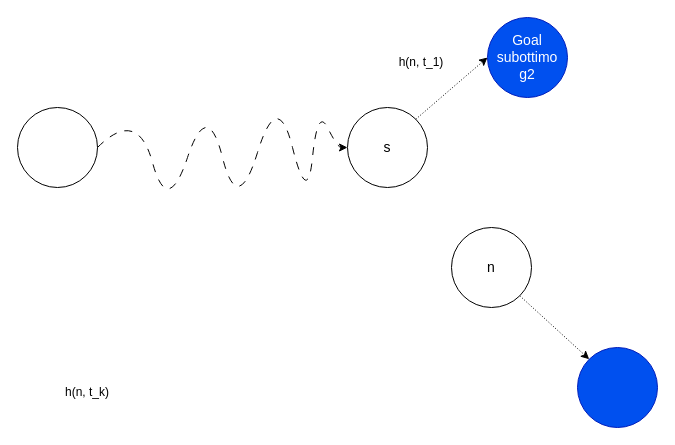
Some shapes in this 675 by 445 pixel diagram are drawn without their labels. The centre of each missing label's shape, as x and y in pixels:
"Goal ottimo g" belongs at (x=617, y=387).
"Stato iniziale" belongs at (x=57, y=147).
